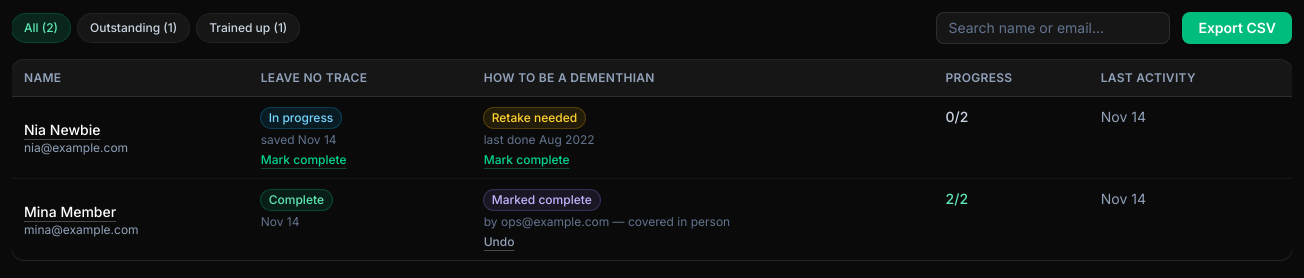
TrainingTable › searches by name and email
In the search field with placeholder "Search name or email…": (1053, 28) left=936, top=12, right=1170, bottom=44, type "mina@"
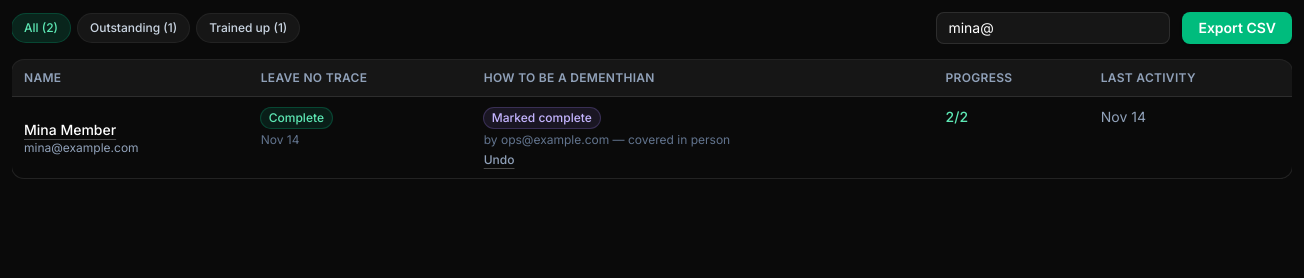
Check: the button "Mina Member" is shown, box left=24, top=120, right=116, bottom=140
Check: the button "Nia Newbie" is gone
